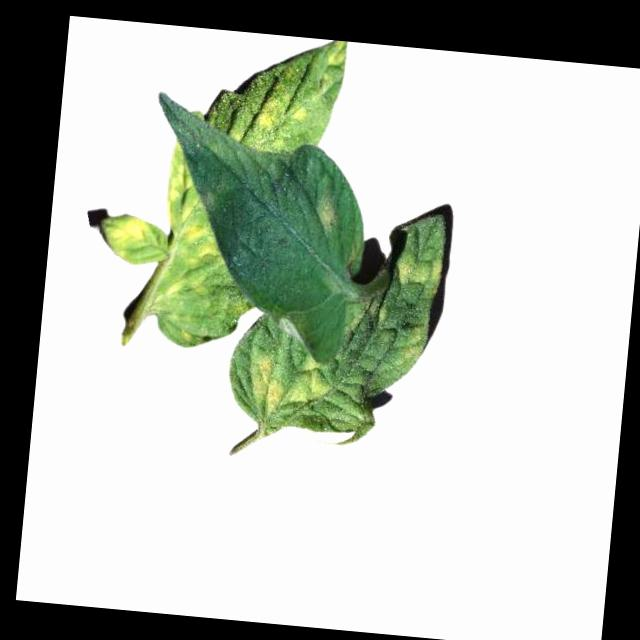Leaf_Mold: (155, 143, 230, 311), (244, 345, 333, 420), (252, 86, 307, 137), (99, 213, 152, 257), (393, 252, 442, 287), (399, 322, 425, 366), (314, 200, 338, 237), (320, 40, 349, 70)
